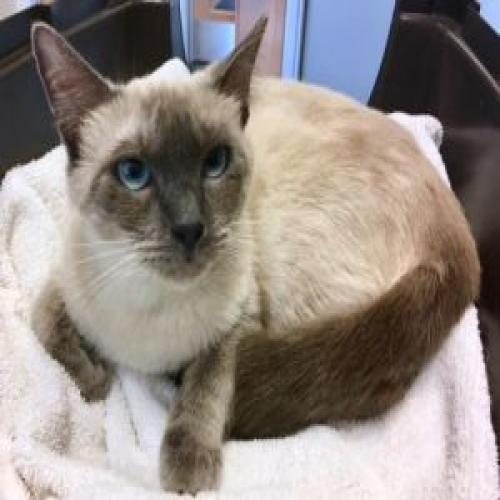siamese: (16, 1, 278, 299)
